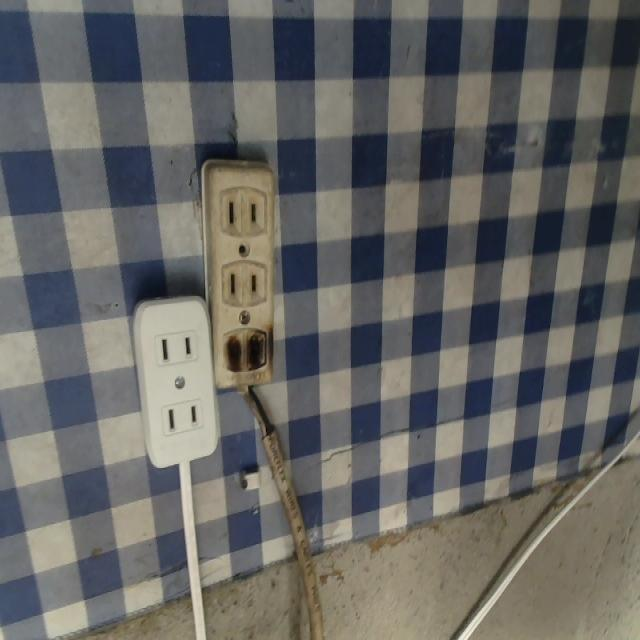-: (217, 324, 281, 383)
